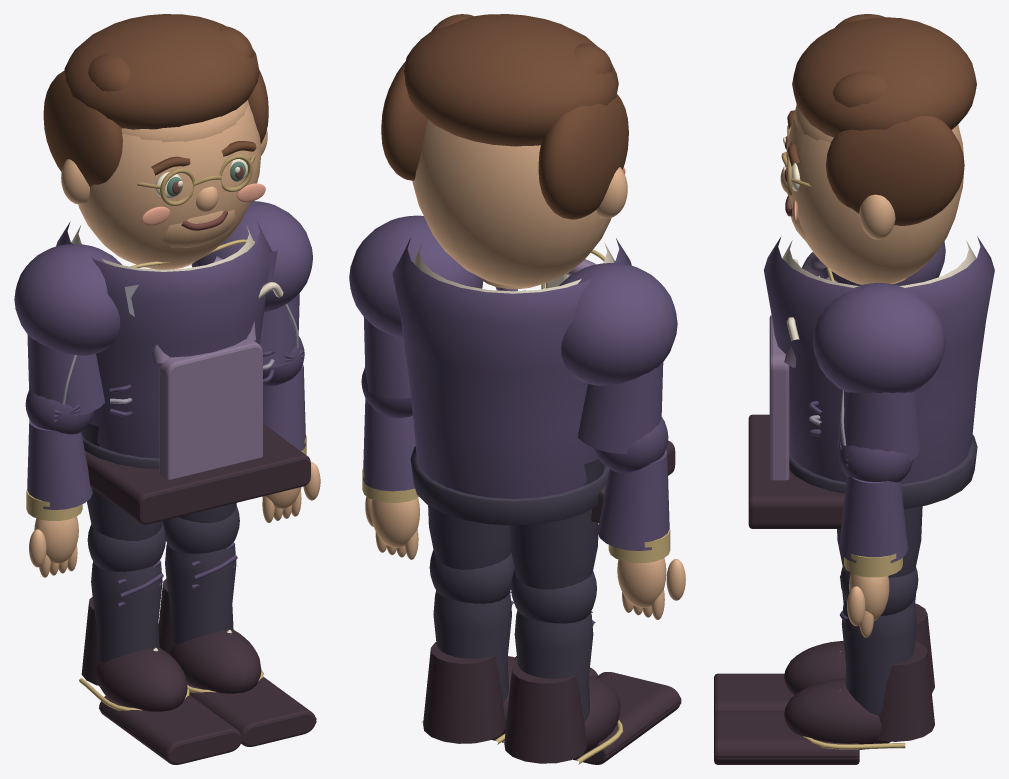
File: ada.glb
The picture shows the model from 3 angles, left to right: view 1: azimuth 30°, elevation 25°; view 2: azimuth 150°, elevation 25°; view 3: azimuth 270°, elevation 25°; orthographic projection. The views are drawn at different scales.
Parts seen in each view (by area): view 1: Tailored coat, Hair cap, Face, Apron panel, Tool belt, Shoulder -1, Sole -1, Trousers calf 1, Trousers calf -1, Side hair -1, Shoulder 1, Sole 1 (+25 smaller); view 2: Tailored coat, Hair cap, Face, Shoulder -1, Side hair -1, Shoulder 1, Boot shaft -1, Boot shaft 1, Trousers thigh -1, Trouser waistband, Sleeve forearm -1, Sleeve upper -1 (+20 smaller); view 3: Tailored coat, Hair cap, Shoulder 1, Side hair 1, Face, Tool belt, Sole 1, Trousers calf 1, Sleeve forearm 1, Leather toe 1, Sleeve upper 1, Boot shaft 1 (+17 smaller).
Part boxes in pixels (bbox=[...]): Tailored coat: bbox=[56, 221, 272, 458]; Hair cap: bbox=[64, 14, 259, 129]; Face: bbox=[78, 103, 261, 268]; Apron panel: bbox=[159, 338, 262, 479]; Tool belt: bbox=[85, 423, 310, 524]; Shoulder -1: bbox=[14, 244, 121, 355]; Sole -1: bbox=[99, 695, 242, 764]; Trousers calf 1: bbox=[165, 543, 236, 644]; Trousers calf -1: bbox=[91, 561, 162, 662]; Side hair -1: bbox=[43, 71, 122, 186]; Shoulder 1: bbox=[191, 201, 312, 312]; Sole 1: bbox=[186, 677, 316, 746]; Tailored coat: bbox=[392, 238, 631, 498]; Hair cap: bbox=[404, 14, 618, 146]; Face: bbox=[412, 119, 611, 286]; Shoulder -1: bbox=[559, 263, 677, 385]; Side hair -1: bbox=[538, 94, 628, 219]; Shoulder 1: bbox=[349, 215, 483, 337]; Boot shaft -1: bbox=[504, 662, 586, 763]; Boot shaft 1: bbox=[423, 642, 505, 743]; Trousers thigh -1: bbox=[509, 458, 604, 589]; Trouser waistband: bbox=[410, 446, 609, 525]; Sleeve forearm -1: bbox=[597, 449, 669, 550]; Sleeve upper -1: bbox=[578, 362, 663, 454]; Tailored coat: bbox=[763, 236, 994, 483]; Hair cap: bbox=[792, 17, 976, 137]; Shoulder 1: bbox=[813, 283, 945, 393]; Side hair 1: bbox=[826, 116, 964, 225]; Face: bbox=[786, 113, 964, 284]; Tool belt: bbox=[748, 414, 844, 528]; Sole 1: bbox=[714, 711, 859, 764]; Trousers calf 1: bbox=[841, 600, 916, 715]; Sleeve forearm 1: bbox=[839, 476, 908, 563]; Leather toe 1: bbox=[784, 678, 890, 749]; Sleeve upper 1: bbox=[837, 390, 921, 461]; Boot shaft 1: bbox=[877, 641, 934, 741].
Bounding box in the file's own units: 1.23 × 2.69 × 0.9817.
